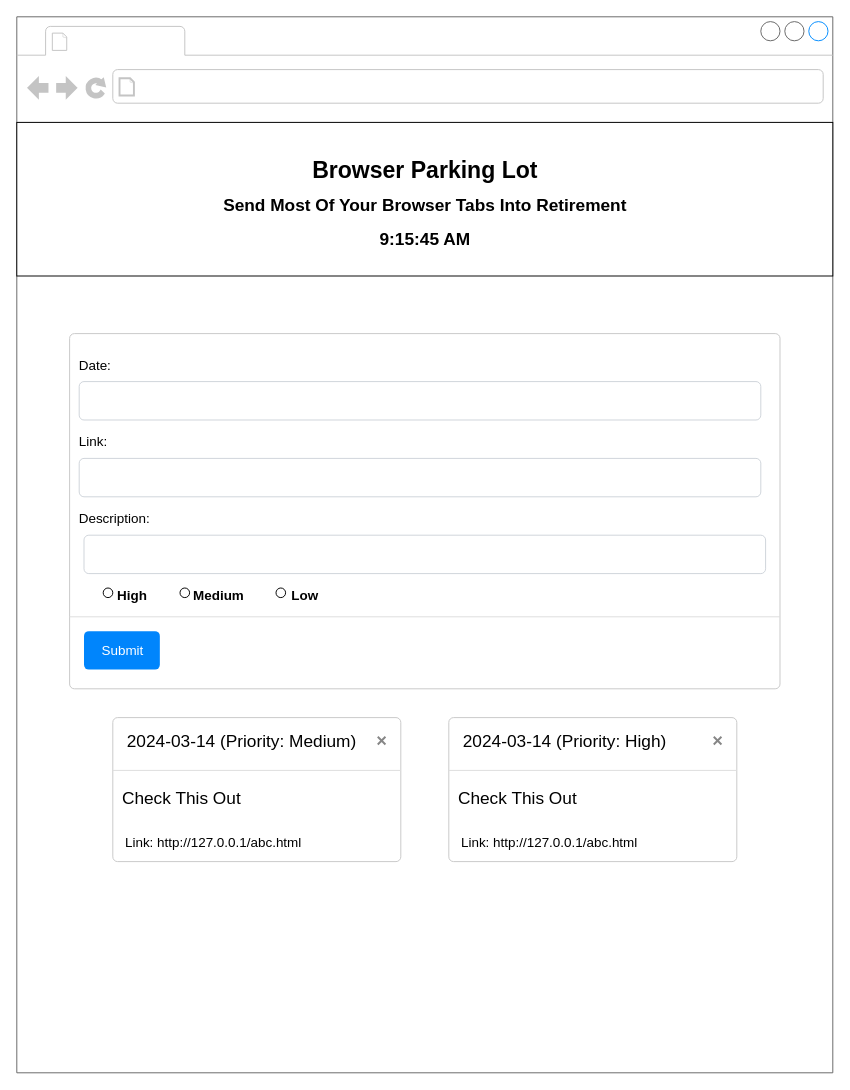
Image size: 850x1090. Some labels were removed from this diagram. The centre of each missing label's shape, as x and y in pixels:
"https://www.draw.io" belongs at (261,86).
"Page 1" belongs at (126,40).
